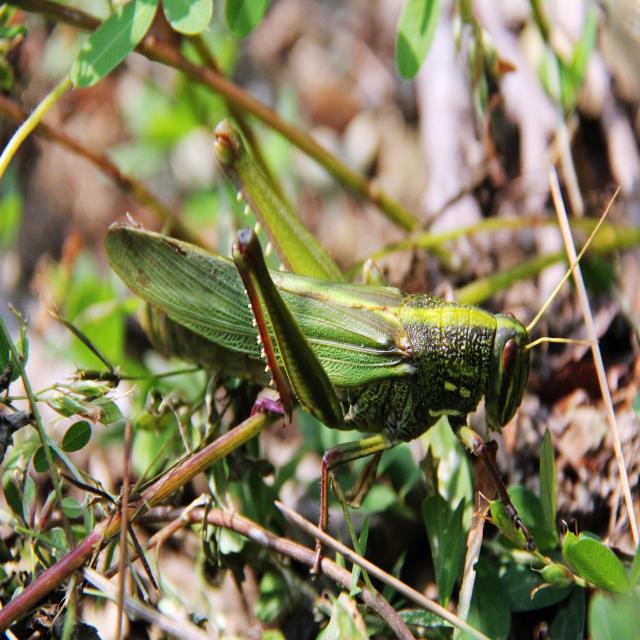ZhaMeng: (103, 108, 546, 475)
